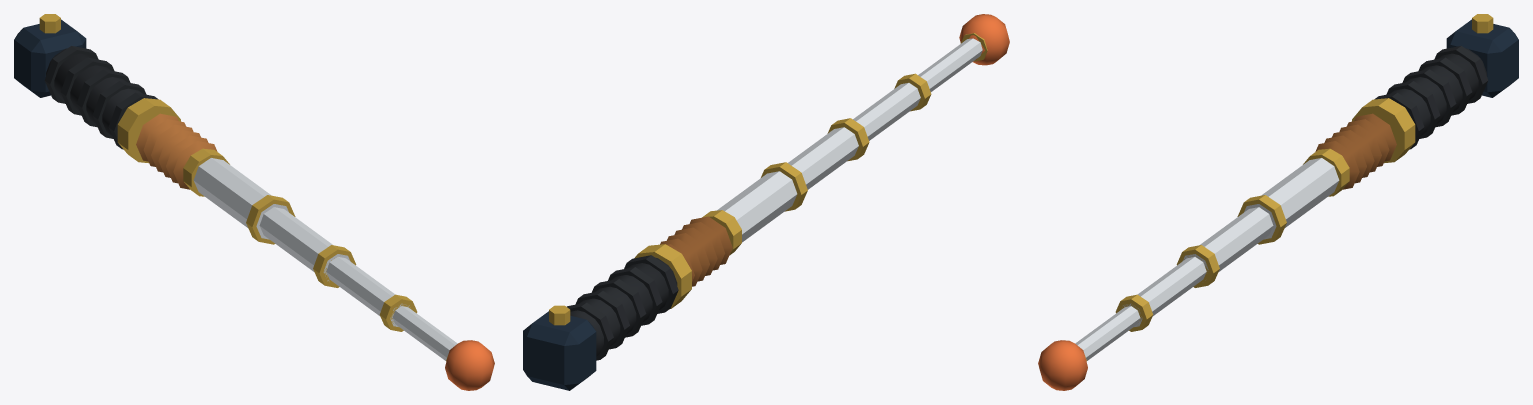
Rendered from Weapon_AntennaWhip.fbx.
The picture shows the model from 3 angles, left to right: view 1: azimuth 30°, elevation 25°; view 2: azimuth 150°, elevation 25°; view 3: azimuth 330°, elevation 25°; orthographic projection.
Parts seen in each view (by area): view 1: Whip; view 2: Whip; view 3: Whip.
Part boxes in pixels (x1=…): Whip: x1=14, y1=14, x2=494, y2=390; Whip: x1=523, y1=14, x2=1009, y2=390; Whip: x1=1038, y1=14, x2=1518, y2=390.
Size of the model in its own units: 0.3 by 0.36 by 4.19.
